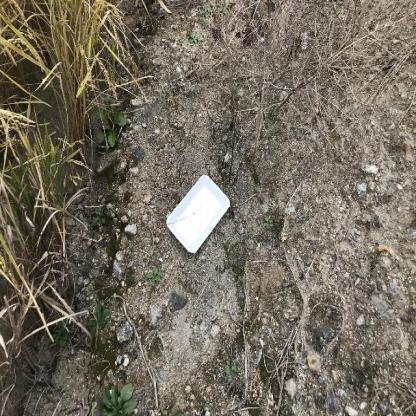Glass Cup: (166, 176, 230, 255), (166, 175, 230, 253)
